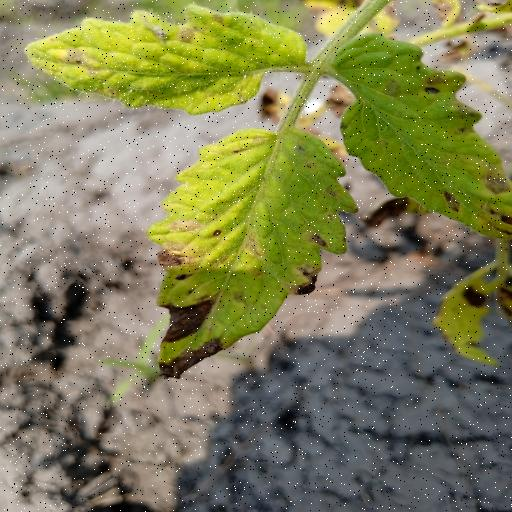Tomato_Brown_Spots: (152, 124, 364, 382), (320, 24, 512, 243), (23, 0, 316, 113)
